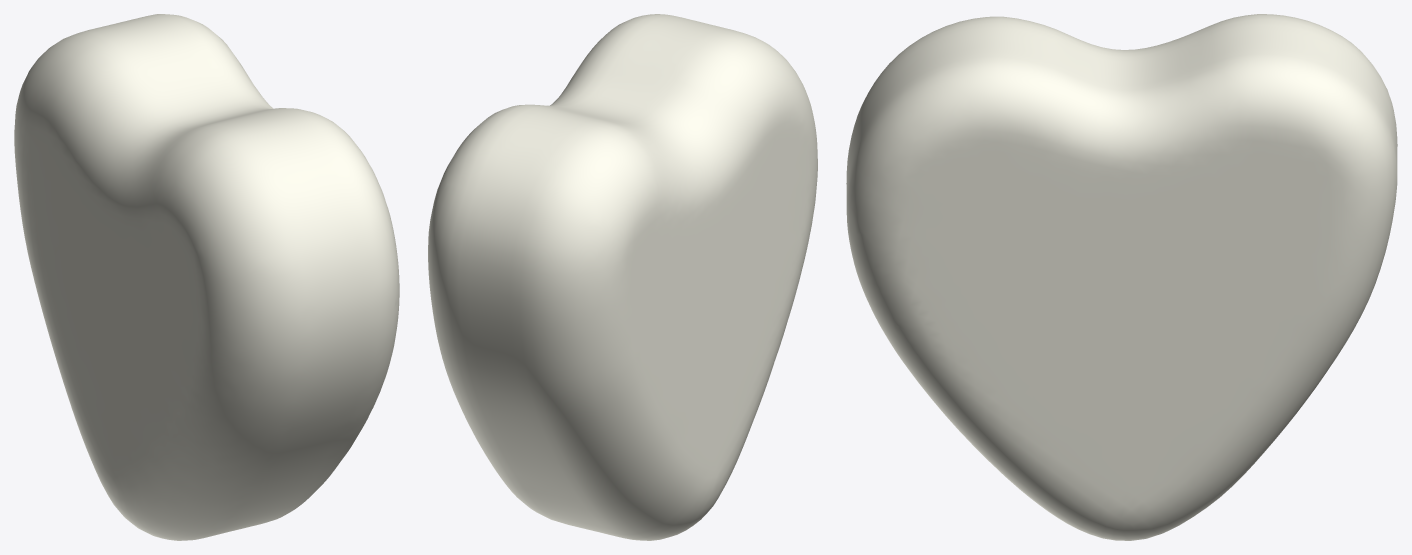
The model's file is Heart_Pill_Individual_Beige.glb.
3 renders of one model, left to right at view 1: azimuth 30°, elevation 25°; view 2: azimuth 150°, elevation 25°; view 3: azimuth 270°, elevation 25°, orthographic. The views are drawn at different scales.
Visible parts, largest first — view 1: Color_Beige_Heart.001; view 2: Color_Beige_Heart.001; view 3: Color_Beige_Heart.001.
Boxes of the visible parts, x1=… form: Color_Beige_Heart.001: x1=14, y1=14, x2=399, y2=540; Color_Beige_Heart.001: x1=428, y1=14, x2=817, y2=540; Color_Beige_Heart.001: x1=846, y1=14, x2=1397, y2=540.
Bounding box in the file's own units: 0.5998 × 1.44 × 1.5.
Materials: 1 (1 with a texture image).
